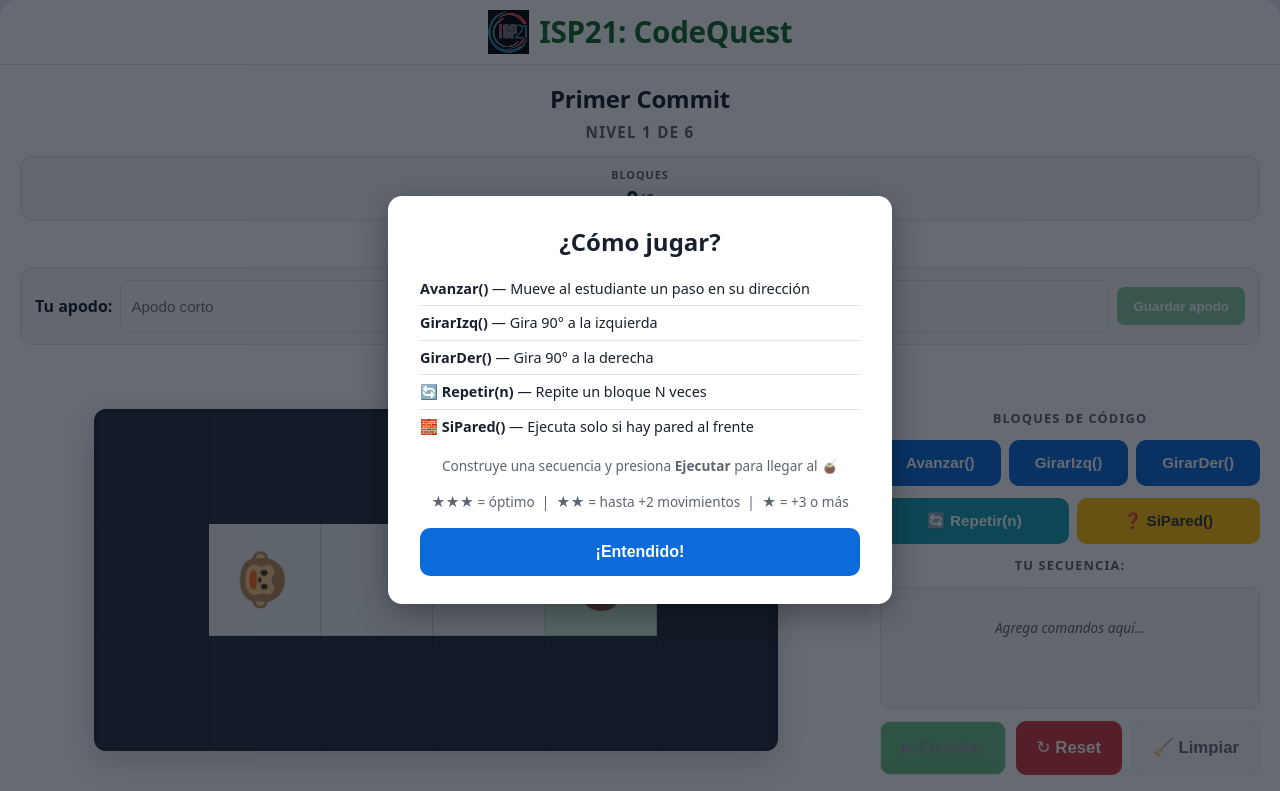
App › limita el input de repeticiones al rango 2-9
Click the button "¡Entendido!".
click(640, 552)  # box x1=420 y1=528 x2=860 y2=576
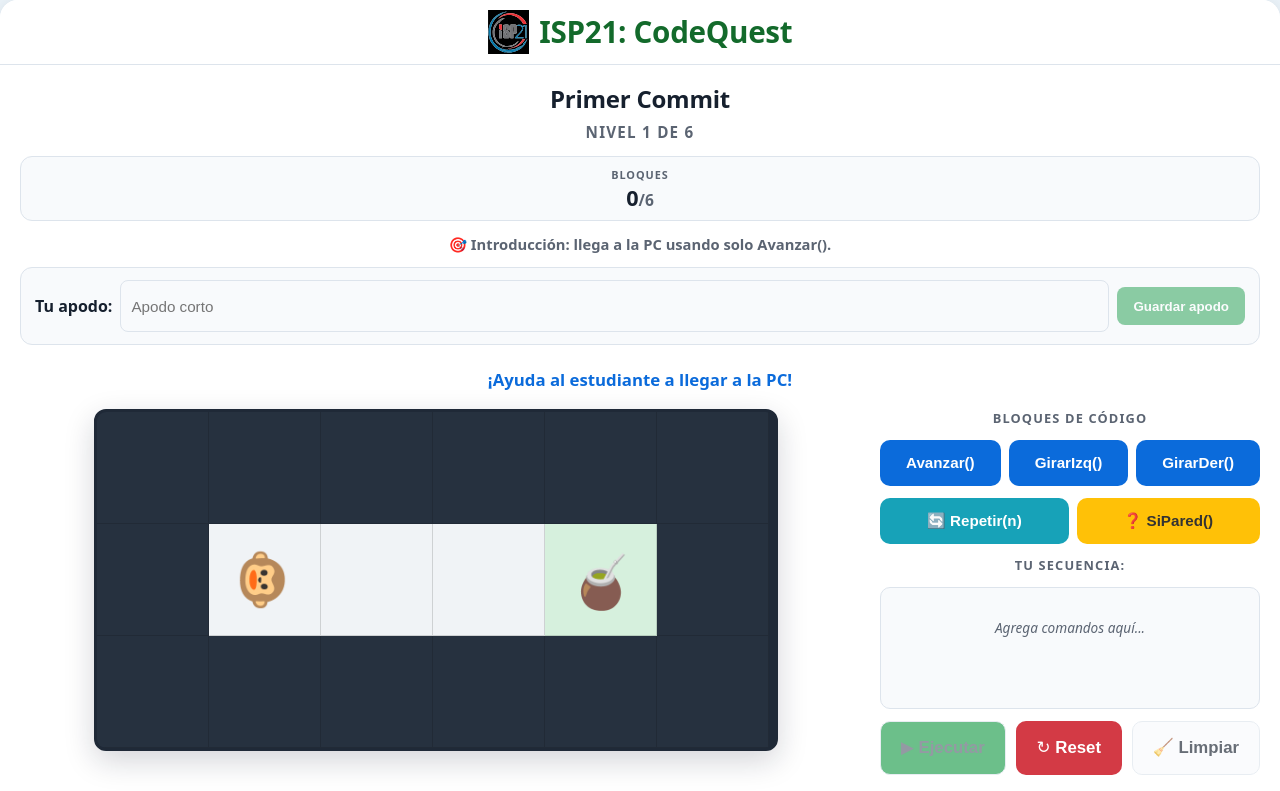
Click the button "🔄 Repetir(n)".
click(974, 521)  # box x1=880 y1=498 x2=1068 y2=544
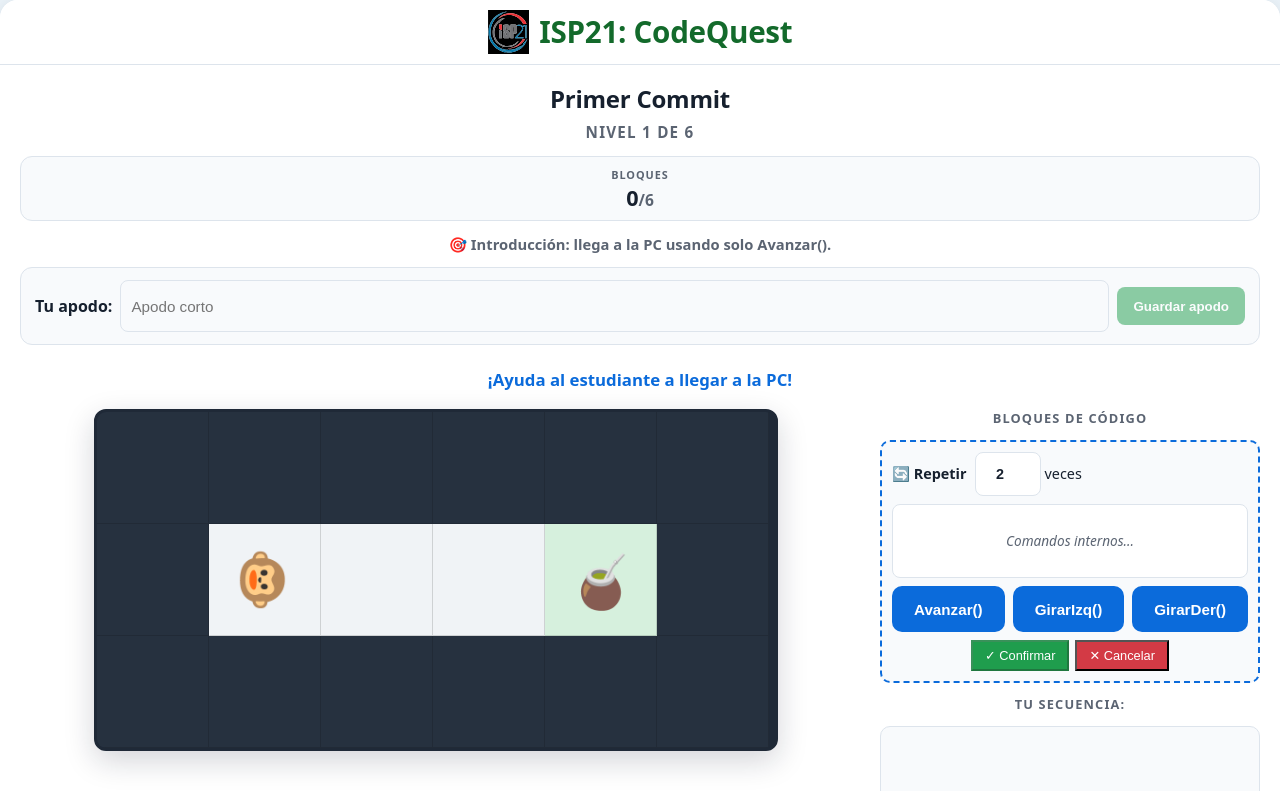
Replace the text in the number field with class "repeat-input" with "50" at [1008, 474], box x1=974 y1=452 x2=1040 y2=496
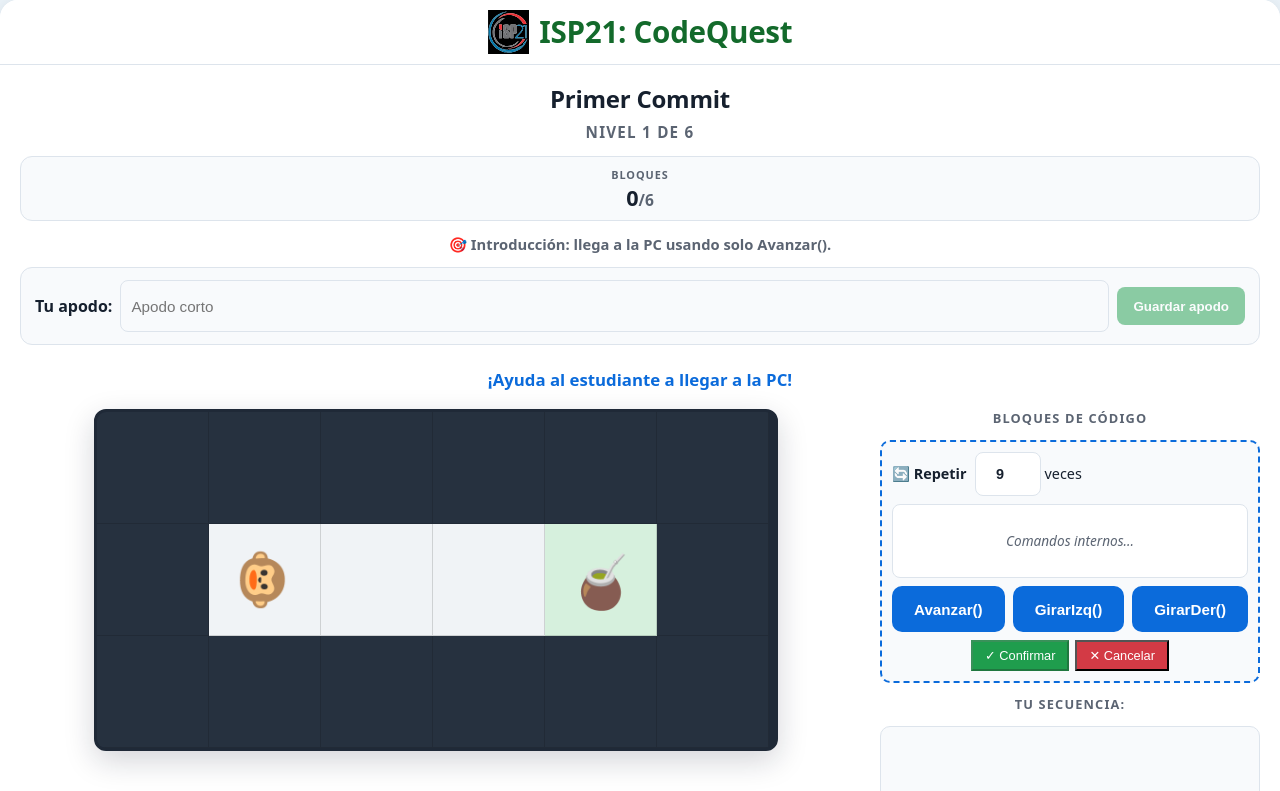
Now the number field with class "repeat-input" holds "9"
Replace the text in the number field with class "repeat-input" with "0" at [1008, 474], box x1=974 y1=452 x2=1040 y2=496
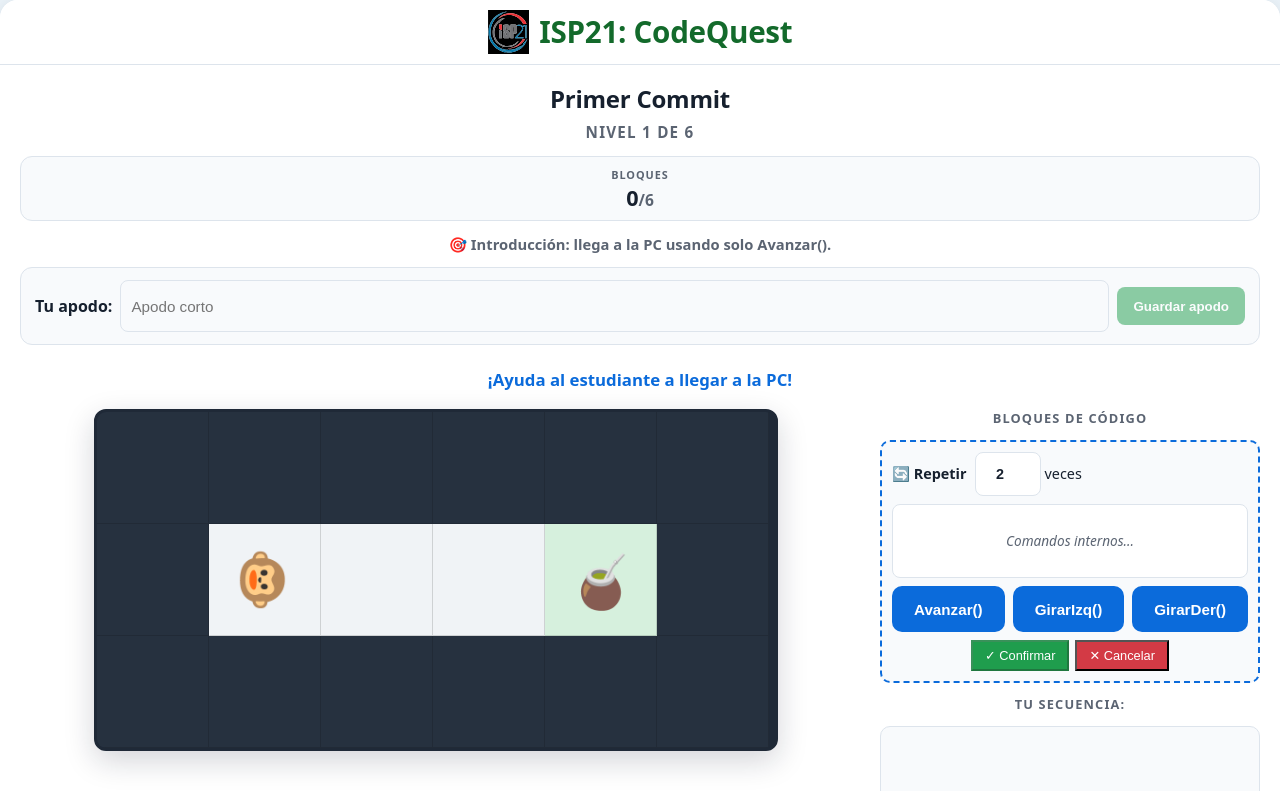
Now the number field with class "repeat-input" holds "2", box x1=974 y1=452 x2=1040 y2=496
